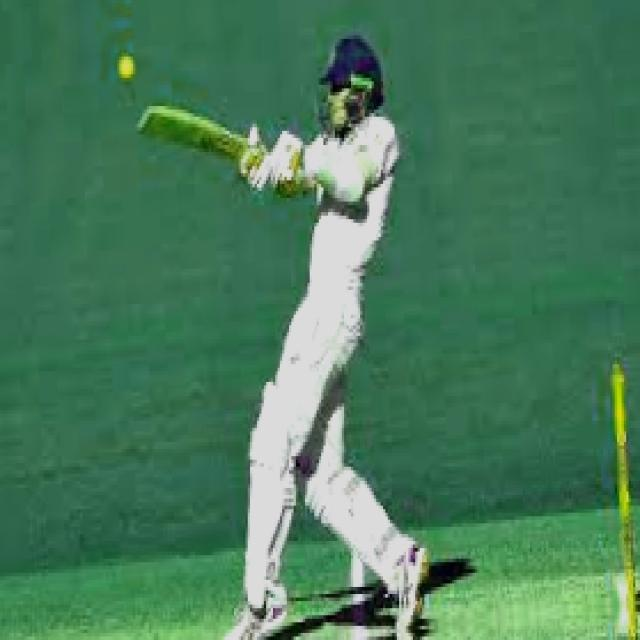toe: (129, 104, 156, 137)
